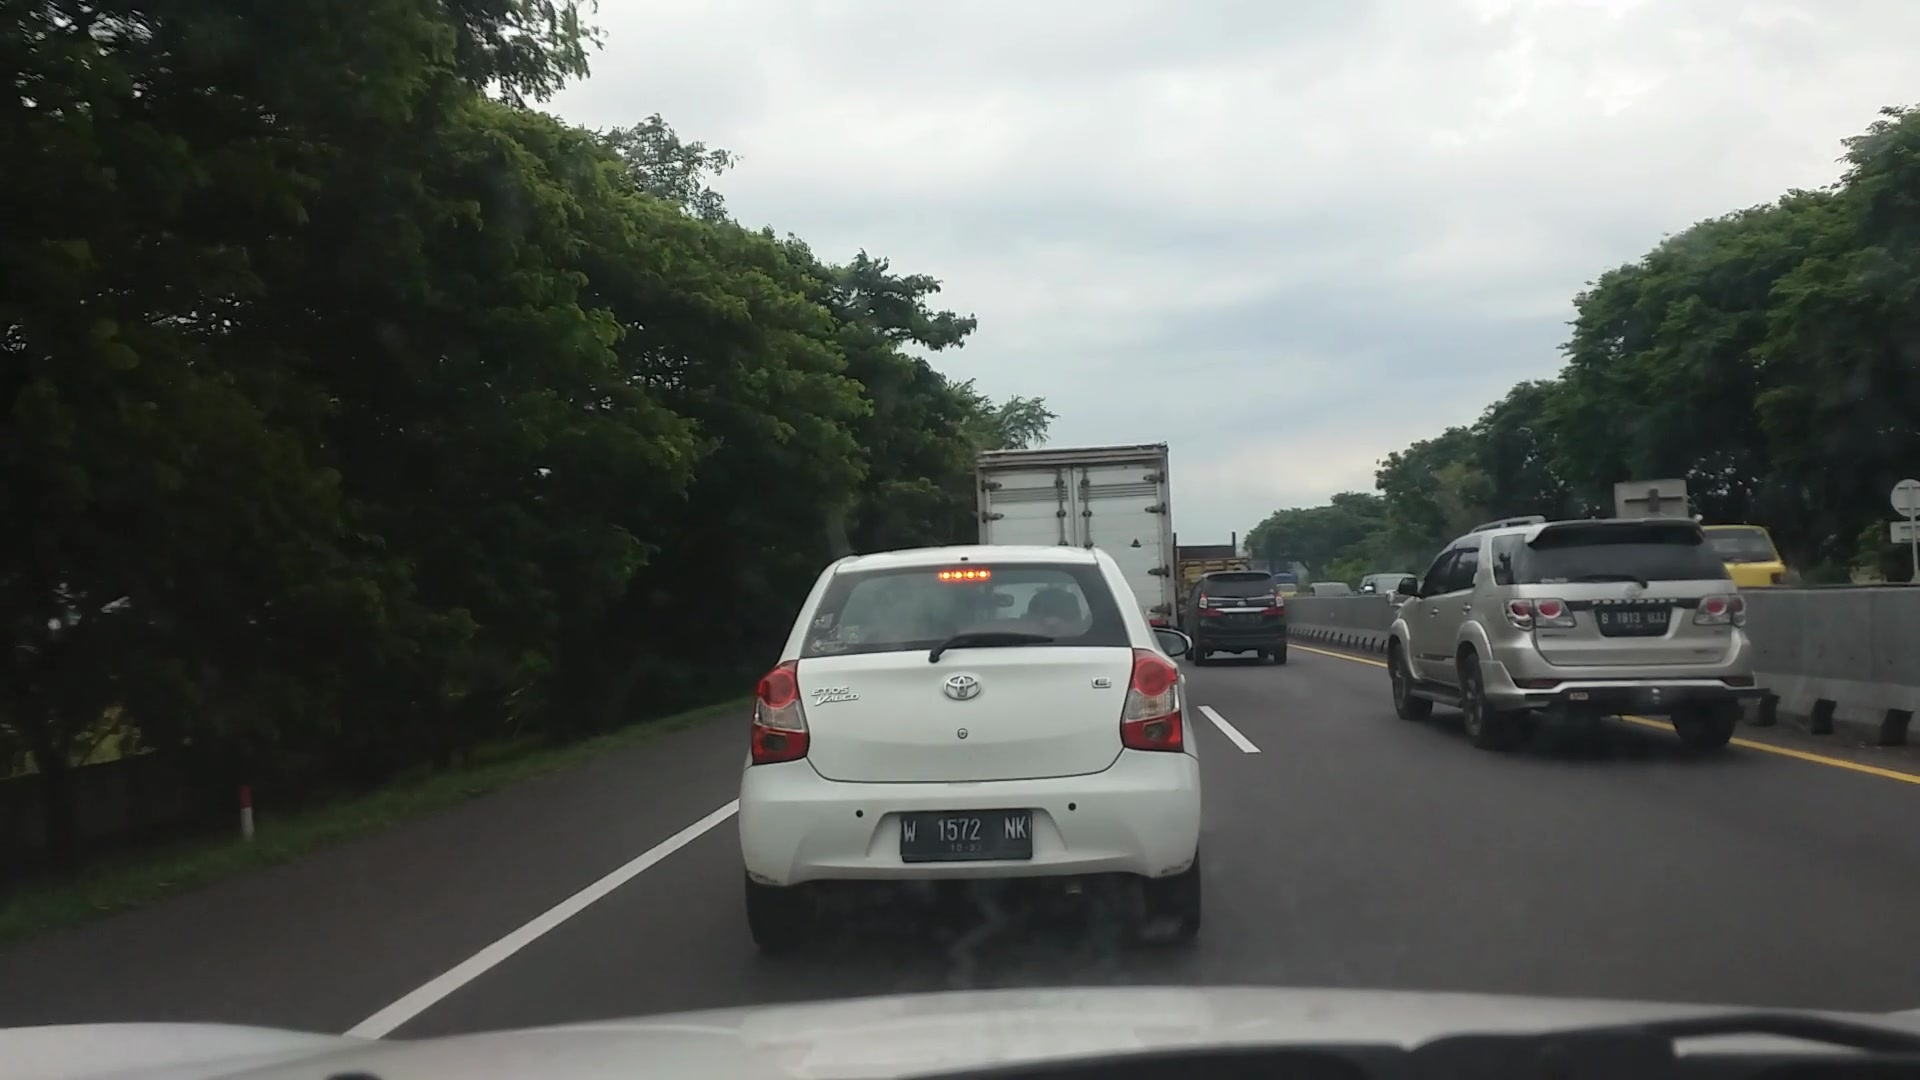plate_positive: (899, 808, 1033, 862), (1600, 609, 1667, 632)
